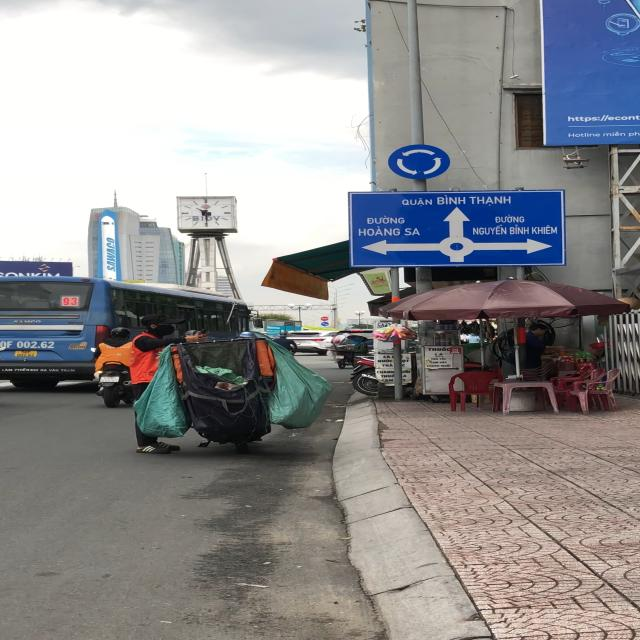Bien bao noi giao nhau chay theo vong xuyen: (384, 143, 456, 181)
